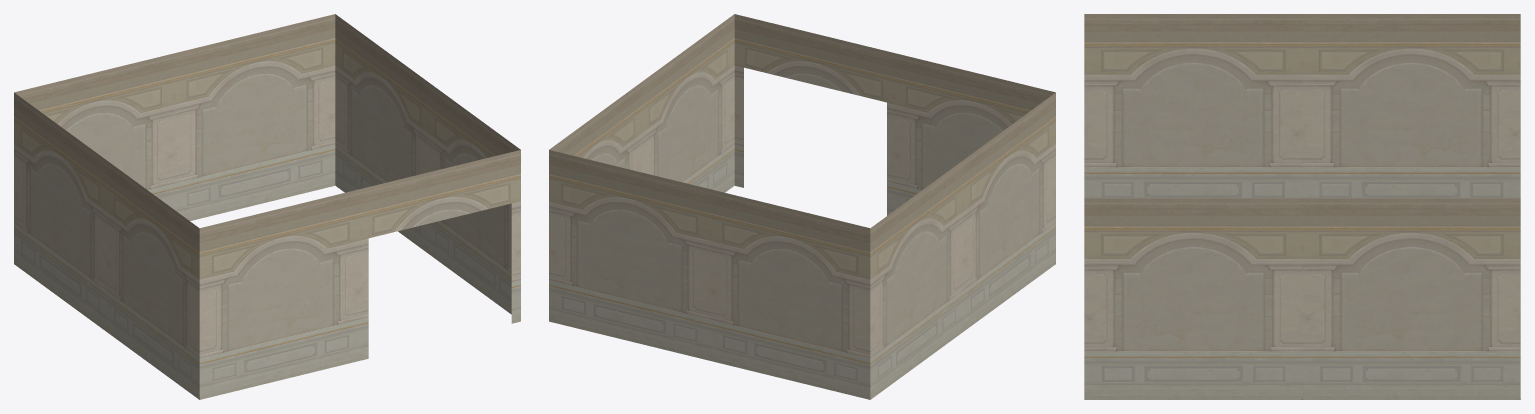
The model's file is Homeworld_Interior_Fd_Room_J_Filling_01_Vo.fbx.
3 renders of one model, left to right at view 1: azimuth 30°, elevation 25°; view 2: azimuth 150°, elevation 25°; view 3: azimuth 270°, elevation 25°, orthographic. The views are drawn at different scales.
Parts seen in each view (by area): view 1: Homeworld_Interior_Fd_Room_J_Filling_01_Vo; view 2: Homeworld_Interior_Fd_Room_J_Filling_01_Vo; view 3: Homeworld_Interior_Fd_Room_J_Filling_01_Vo.
Part boxes in pixels (x1,y1,x2,y2): Homeworld_Interior_Fd_Room_J_Filling_01_Vo: [14, 14, 520, 399]; Homeworld_Interior_Fd_Room_J_Filling_01_Vo: [549, 14, 1055, 399]; Homeworld_Interior_Fd_Room_J_Filling_01_Vo: [1084, 14, 1520, 399].
Size of the model in its own units: 9.75 by 4.98 by 9.76.
